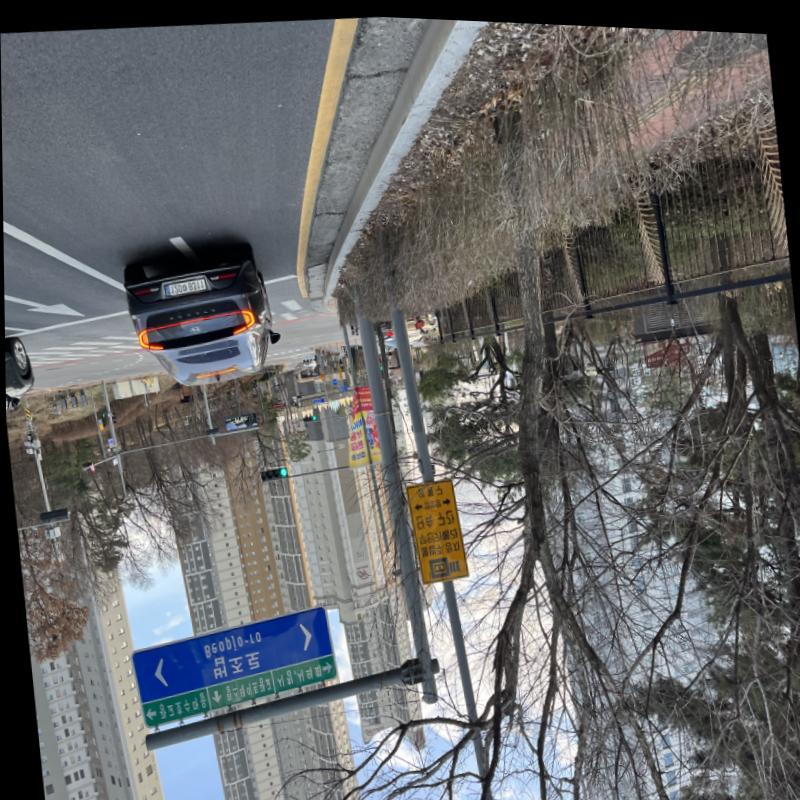green: (278, 465, 286, 474)
